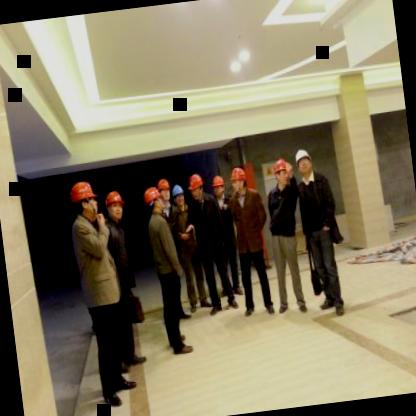helmet: (65, 180, 99, 220), (292, 143, 314, 180), (268, 155, 292, 188), (102, 186, 124, 221), (142, 184, 166, 214), (228, 162, 250, 194), (186, 172, 206, 202), (170, 181, 186, 210), (154, 174, 170, 202), (209, 174, 226, 200)
